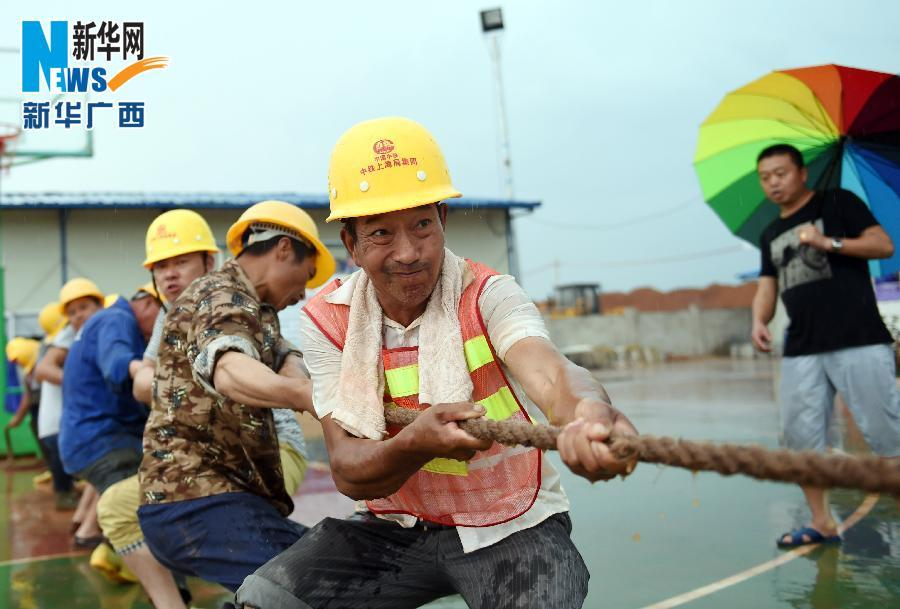helmet: (322, 115, 463, 227), (226, 198, 339, 290), (142, 211, 223, 268), (58, 279, 105, 313), (5, 336, 45, 371), (38, 302, 69, 345)
